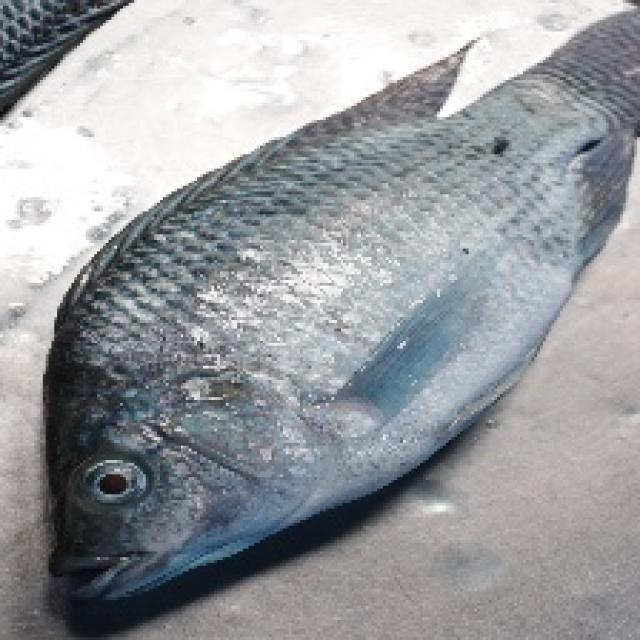Fresh: (35, 176, 558, 614)
